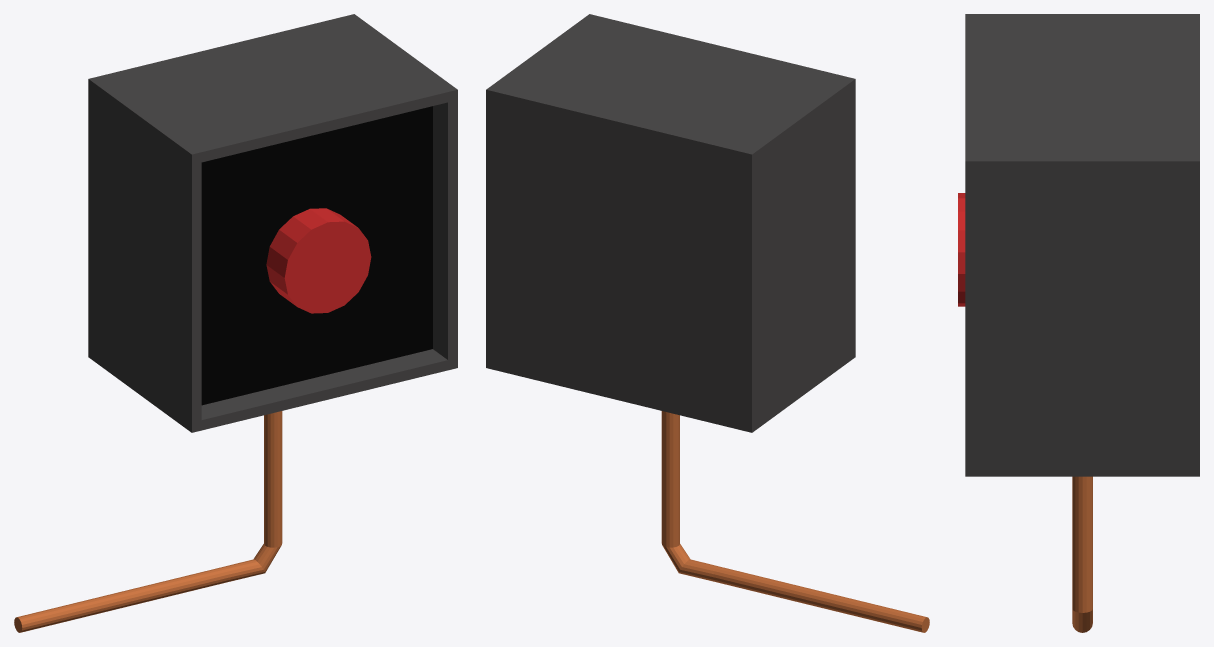
File: PrimeShields.fbx
3 views of the same model, side by side, from view 1: azimuth 30°, elevation 25°; view 2: azimuth 150°, elevation 25°; view 3: azimuth 270°, elevation 25° (orthographic). The views are drawn at different scales.
Parts seen in each view (by area): view 1: PrimeShields; view 2: PrimeShields; view 3: PrimeShields.
Boxes of the visible parts, <box> form: PrimeShields: <box>14,14,457,632</box>; PrimeShields: <box>486,14,929,632</box>; PrimeShields: <box>958,14,1199,632</box>.
Bounding box in the file's own units: 197 × 236 × 93.77.
